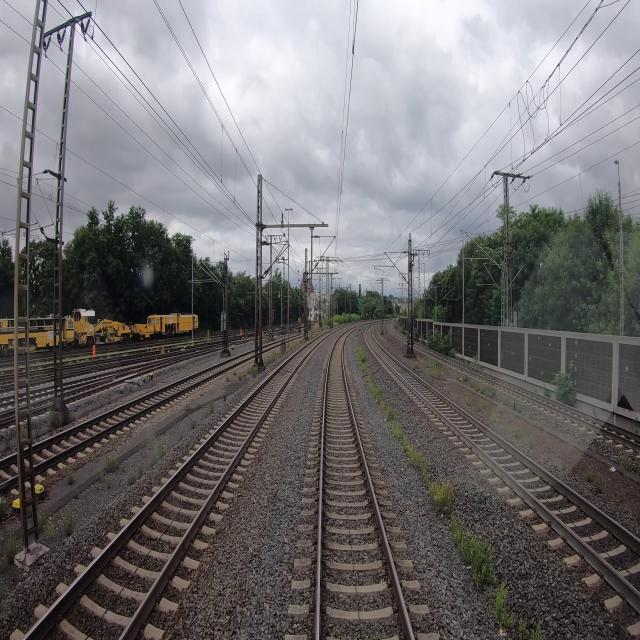Plant: (355, 343, 402, 439), (450, 518, 496, 589), (403, 436, 430, 488), (493, 582, 515, 628), (430, 480, 454, 516), (104, 451, 119, 473), (6, 537, 17, 561), (518, 621, 530, 639), (531, 624, 545, 639), (65, 514, 74, 535), (128, 467, 136, 485), (136, 461, 144, 478), (37, 512, 44, 529), (67, 475, 75, 486), (251, 364, 257, 377), (183, 402, 192, 410), (190, 418, 196, 428), (238, 370, 242, 381), (223, 393, 227, 402), (226, 376, 229, 381)
